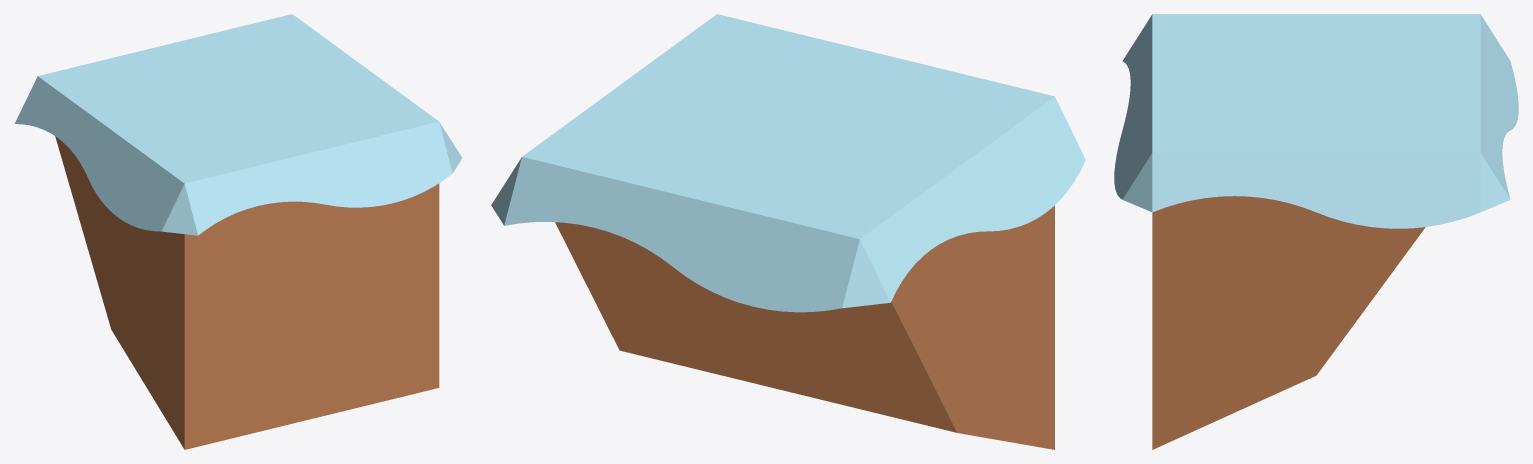
Rendered from blockSnowCliff.fbx.
The picture shows the model from 3 angles, left to right: view 1: azimuth 30°, elevation 25°; view 2: azimuth 150°, elevation 25°; view 3: azimuth 270°, elevation 25°; orthographic projection. The views are drawn at different scales.
Visible parts, largest first — view 1: blockSnowCliff; view 2: blockSnowCliff; view 3: blockSnowCliff.
Boxes of the visible parts, box(x1,y1,x2,y2) form: blockSnowCliff: box(14, 14, 462, 449); blockSnowCliff: box(491, 14, 1085, 449); blockSnowCliff: box(1114, 14, 1518, 449).
Bounding box in the file's own units: 12.33 × 10 × 12.33.
